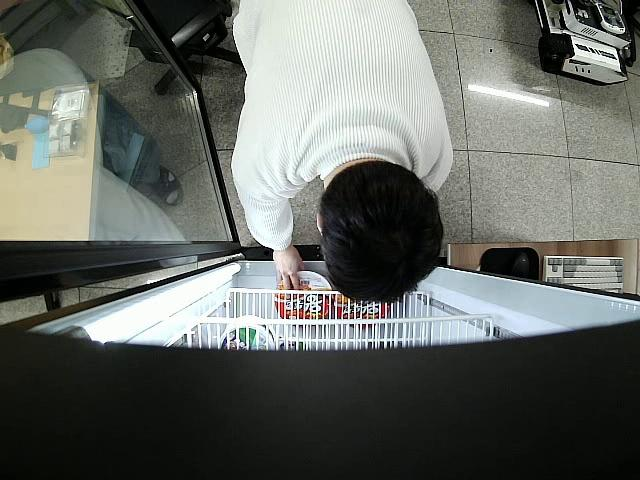00_hand: (274, 248, 304, 291)
10_wangTtukkeong: (275, 271, 331, 323)
